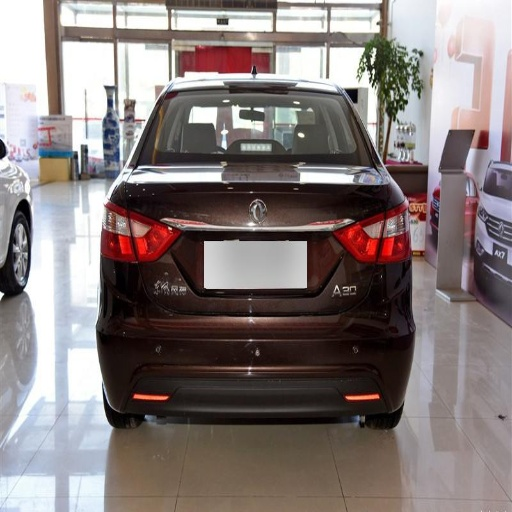back_bumper: (94, 257, 418, 426)
tailgate: (154, 164, 388, 323), (116, 175, 163, 264)
trunk: (133, 164, 278, 307)
